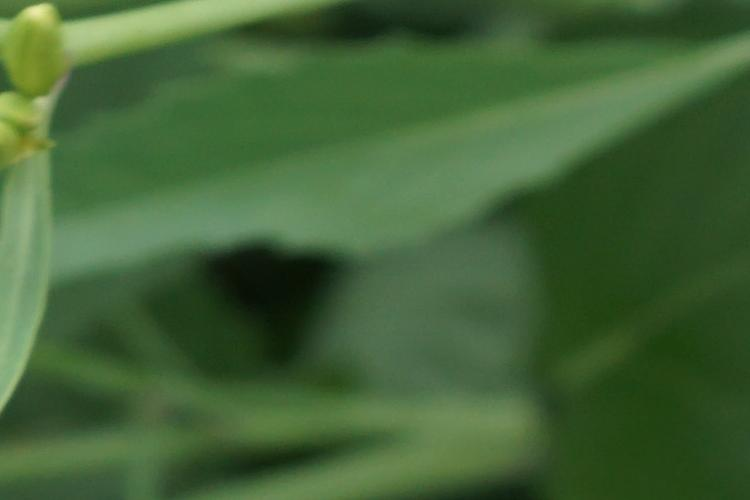bud: (8, 9, 80, 97), (2, 124, 69, 174), (4, 89, 51, 132)
